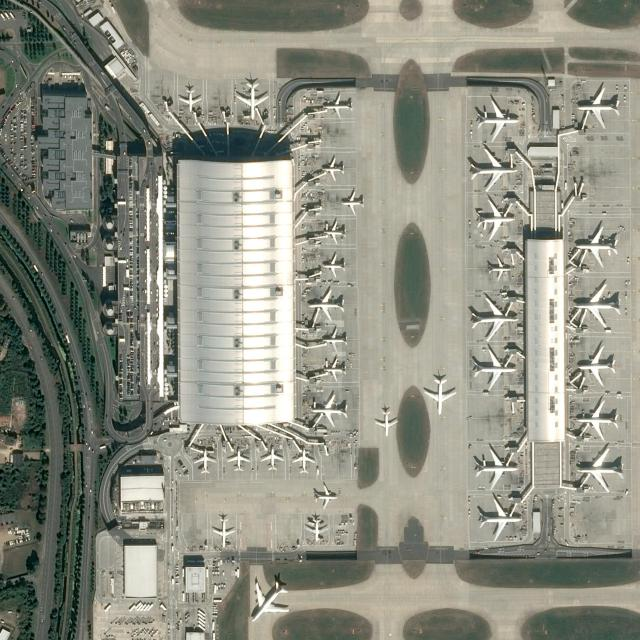aircraft: (573, 283, 621, 329), (468, 148, 518, 192), (470, 296, 518, 341), (576, 448, 623, 492), (576, 84, 620, 130), (477, 498, 523, 540), (477, 98, 519, 142), (474, 447, 518, 489), (472, 348, 516, 389), (575, 225, 618, 266), (250, 578, 290, 622), (577, 400, 619, 440), (572, 346, 612, 386), (475, 199, 513, 241), (422, 376, 456, 416), (236, 81, 269, 119), (310, 394, 348, 426), (308, 289, 344, 321), (323, 94, 353, 118), (212, 518, 235, 546), (321, 328, 347, 352), (320, 254, 346, 277), (375, 410, 398, 436), (320, 157, 344, 181), (192, 450, 216, 474), (304, 517, 328, 541), (292, 448, 314, 474), (179, 88, 203, 111), (340, 190, 364, 213), (322, 220, 346, 243), (489, 256, 512, 280), (227, 449, 250, 473), (261, 447, 283, 471), (315, 485, 337, 508), (325, 358, 346, 381)
